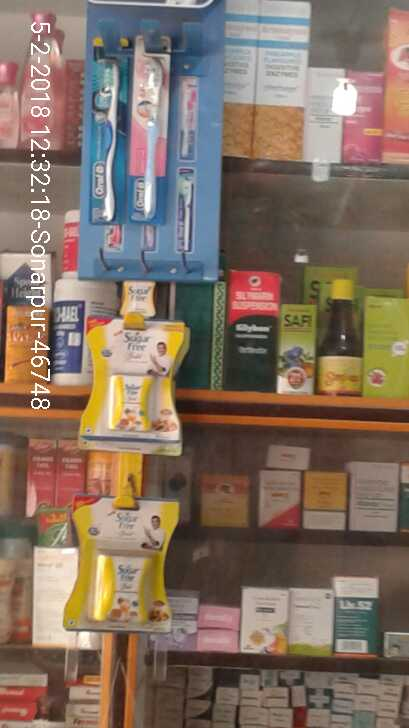oralb: (128, 30, 172, 222), (91, 36, 133, 226)
